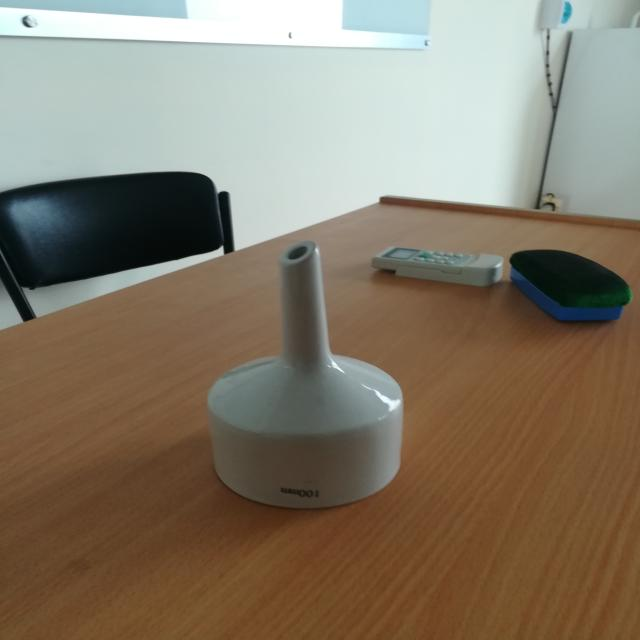Buchner_Funnel: (160, 223, 454, 545)
